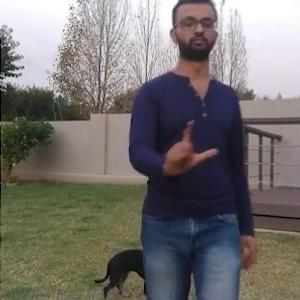land_hand: (162, 111, 218, 176)
